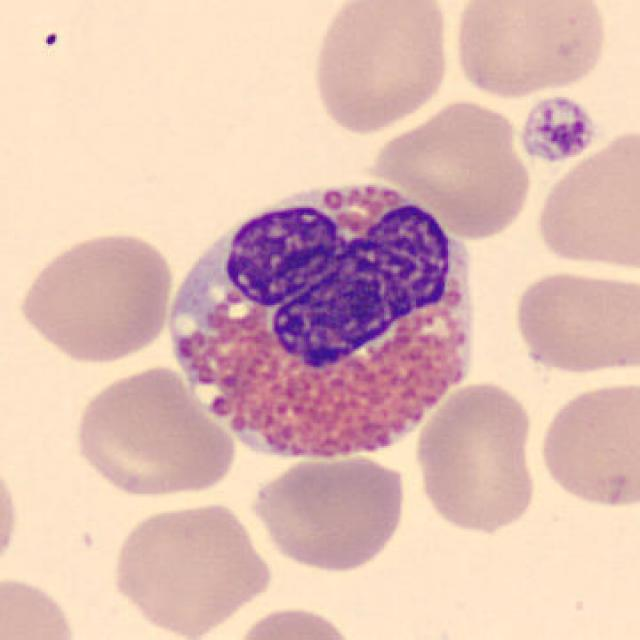Eosinophil: (155, 157, 494, 487)
Platelets: (516, 91, 599, 166)
RBC: (107, 497, 276, 638), (372, 95, 535, 240), (70, 363, 238, 501), (14, 226, 178, 366), (411, 379, 542, 538), (247, 450, 411, 574), (308, 0, 455, 136), (447, 0, 613, 102), (530, 122, 640, 275), (508, 266, 636, 378), (535, 378, 638, 512), (0, 571, 84, 640), (227, 603, 361, 640), (0, 449, 23, 582)
